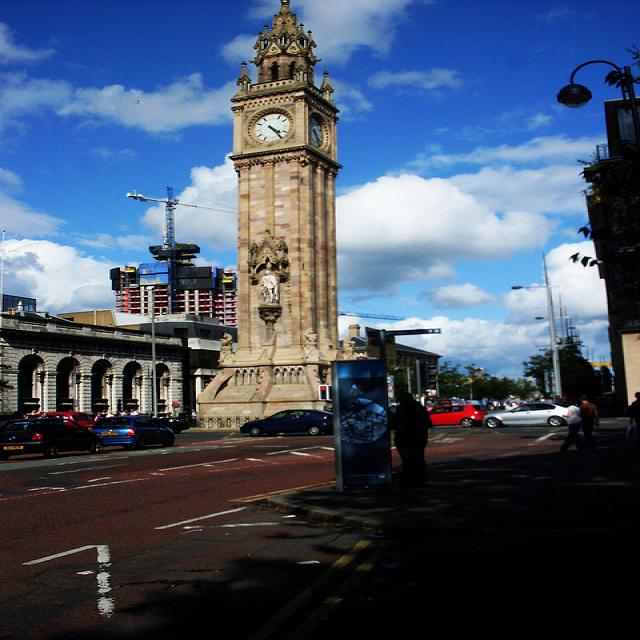Vehicle: (0, 418, 104, 458), (240, 408, 332, 438), (484, 400, 579, 429), (92, 416, 175, 449), (428, 404, 489, 427), (46, 411, 94, 432), (153, 418, 190, 433)
